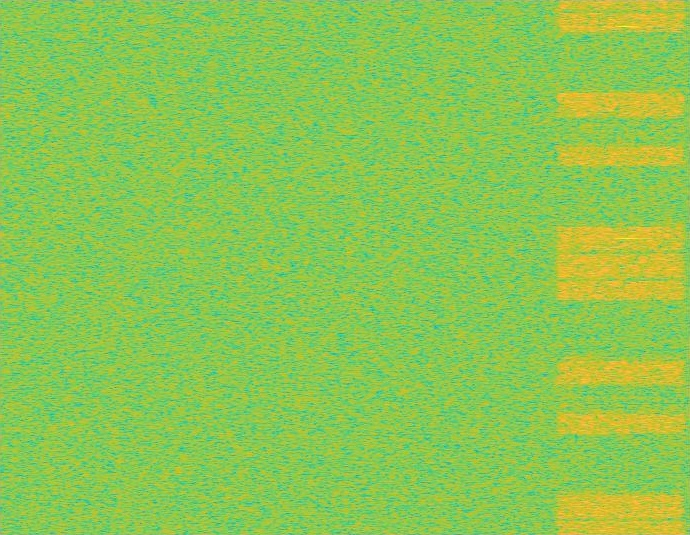LTE: (552, 0, 689, 534)
Radar: (620, 0, 634, 534)
